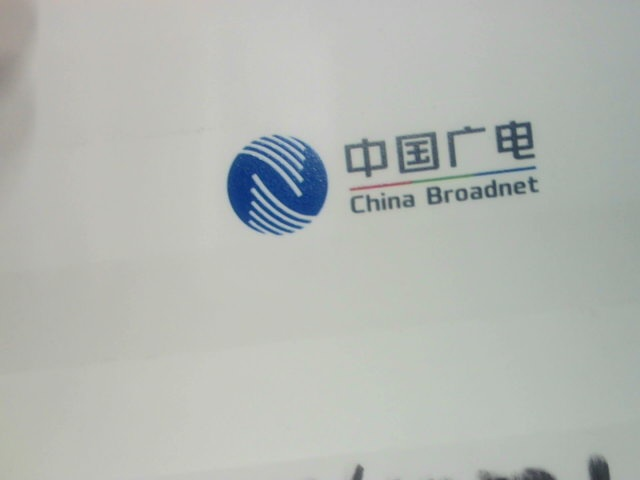AW_ChinaBroadNet: (220, 116, 560, 240)
